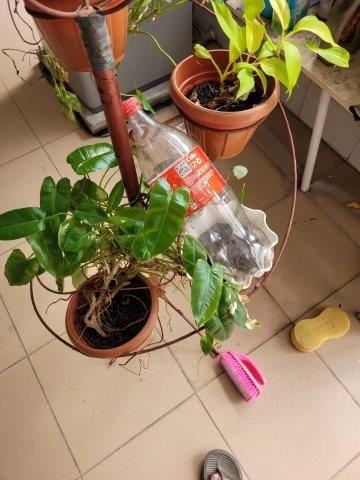botolplastik: (120, 99, 281, 293)
